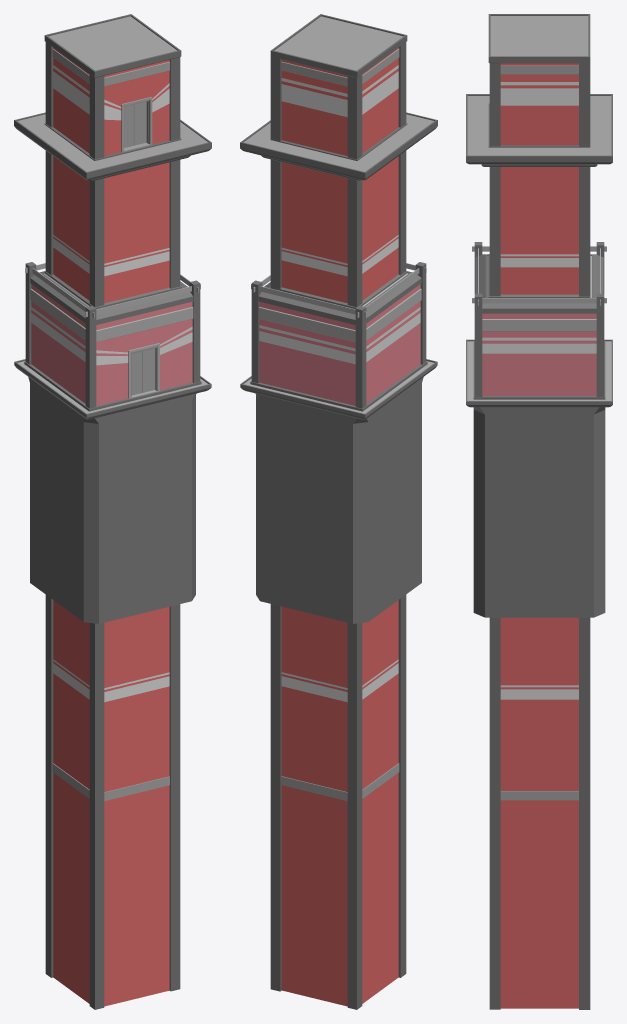
The model's file is Elv.fbx.
3 renders of one model, left to right at view 1: azimuth 30°, elevation 25°; view 2: azimuth 150°, elevation 25°; view 3: azimuth 270°, elevation 25°, orthographic.
Parts seen in each view (by area): view 1: Cube.003, Cube.001, Cube.004, Cube, Cube.005; view 2: Cube.003, Cube.001; view 3: Cube.003, Cube.001.
Part boxes in pixels (x1,y1,x2,y2): Cube.003: (14,14,211,1009); Cube.001: (14,262,211,623); Cube.004: (142,348,155,392); Cube: (134,101,146,145); Cube.005: (131,351,142,395); Cube.003: (240,14,437,1009); Cube.001: (240,262,437,623); Cube.003: (466,14,612,1009); Cube.001: (466,242,612,617).
Size of the model in its own units: 1854 by 13267 by 1854.
